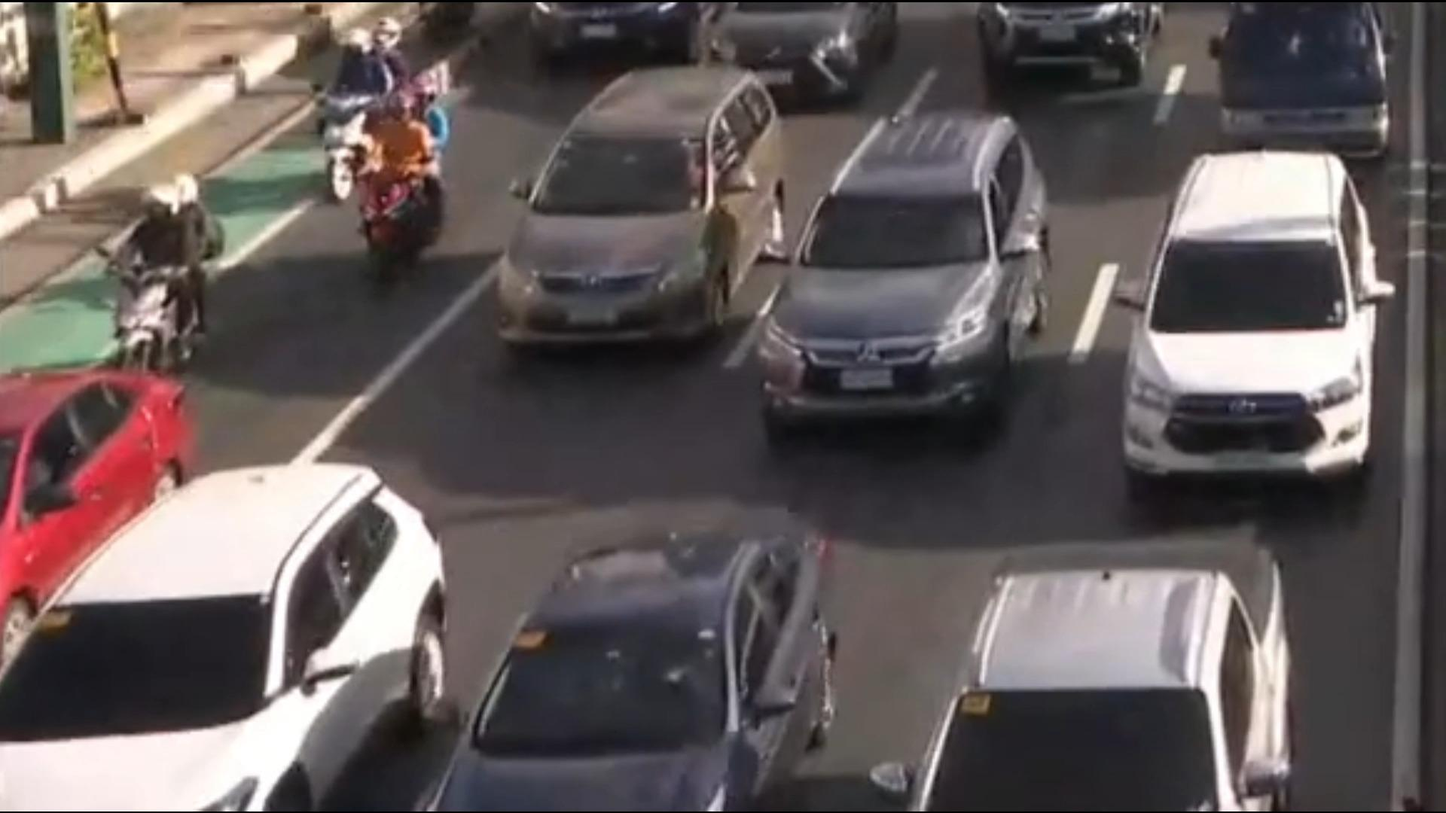Motorcycle: (111, 142, 268, 383), (335, 76, 490, 307), (313, 21, 447, 229)
Pickup: (861, 522, 1333, 813)
SUV: (0, 437, 469, 813), (712, 100, 1119, 471), (1067, 126, 1397, 515), (477, 47, 814, 384)
Sedan: (426, 509, 865, 813), (0, 341, 224, 608)
